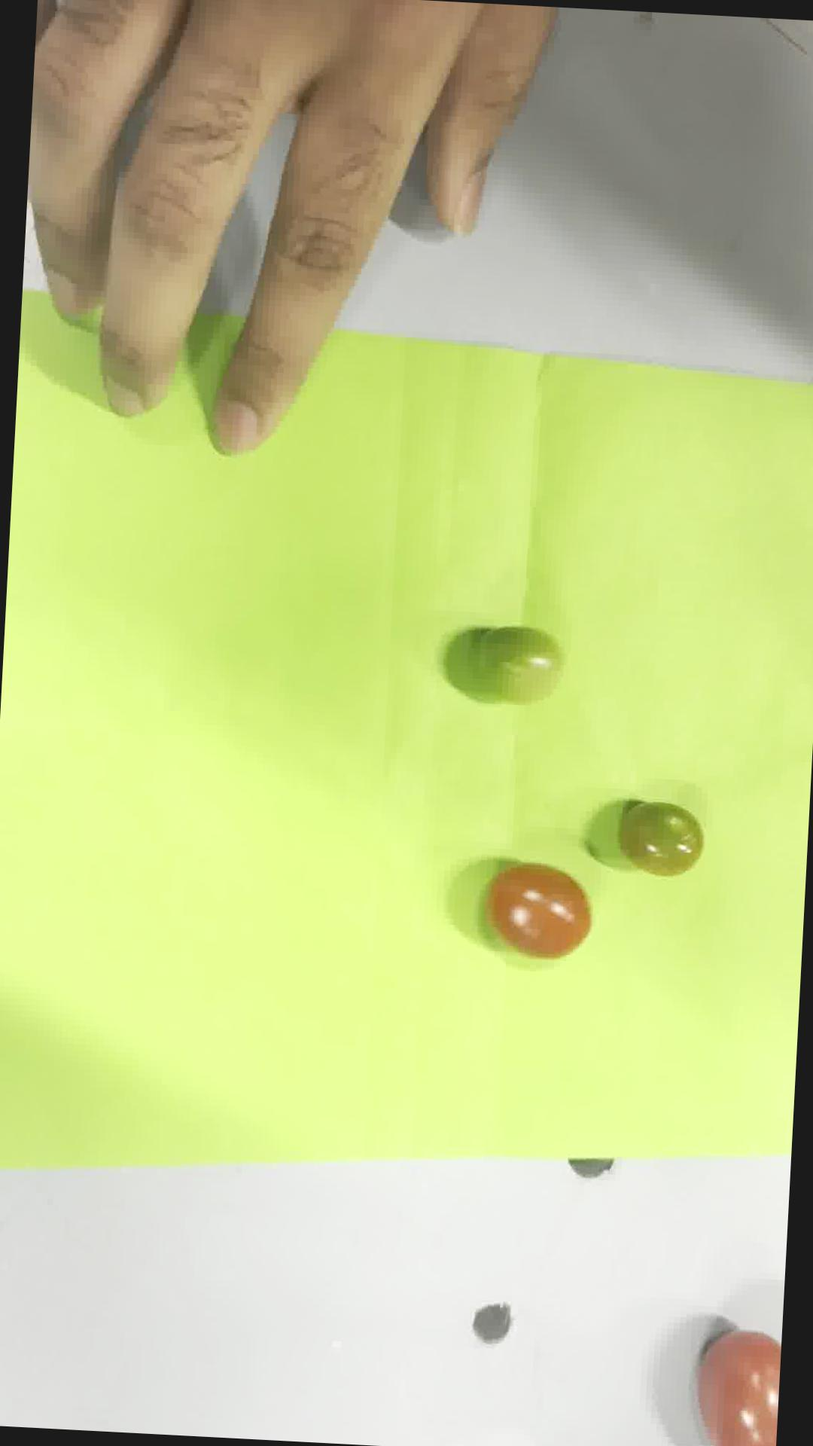green_cherry_tomato: (475, 626, 562, 703)
red_cherry_tomato: (487, 863, 590, 957)
yellow_cherry_tomato: (618, 801, 702, 875)
